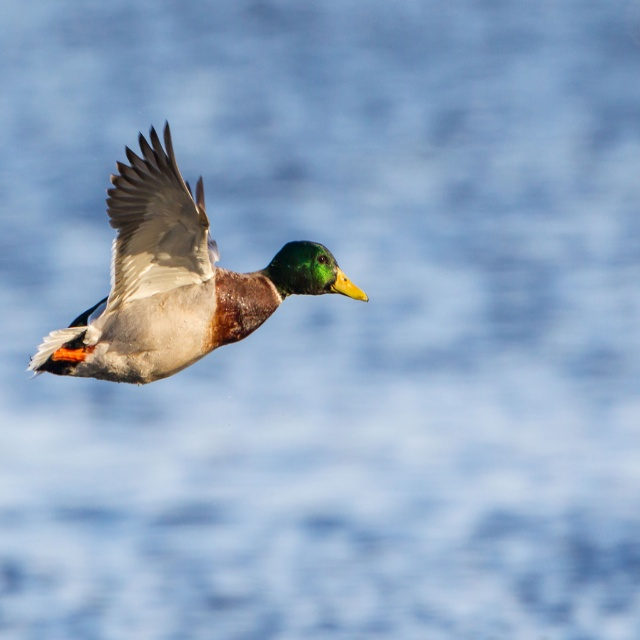Duck: (22, 133, 370, 396)
